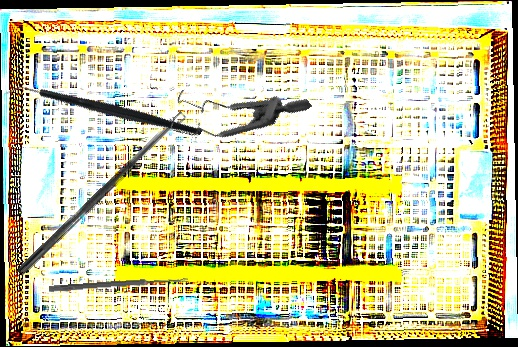Chopper: (3, 26, 204, 198)
Speculum: (156, 34, 313, 181)
Surgical Spoon: (16, 111, 188, 277), (48, 276, 189, 293)
